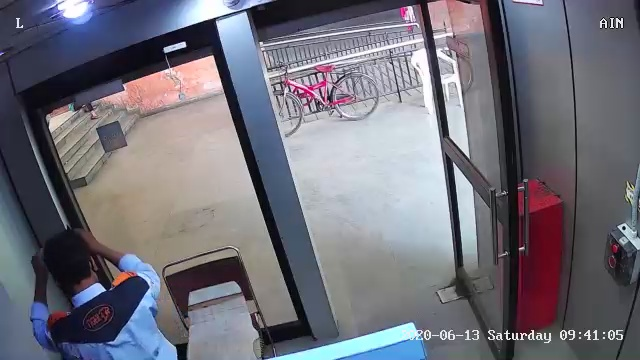open: (391, 4, 566, 360)
